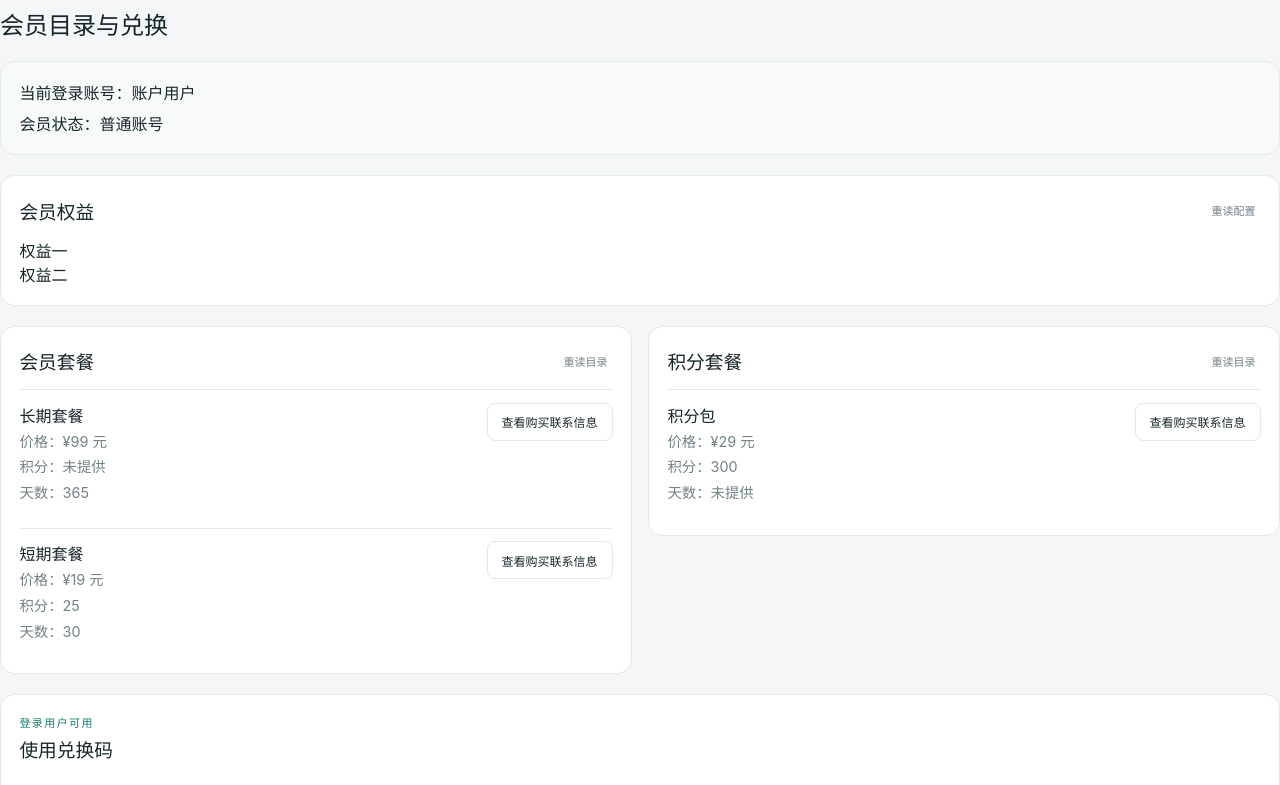
AccountMembershipPanel › shows safe contact text fallback and never interprets configured HTML
Click the button "查看购买联系信息" in the row of "长期套餐".
click(550, 422)  # box [487,403,613,441]
(page scrolled)
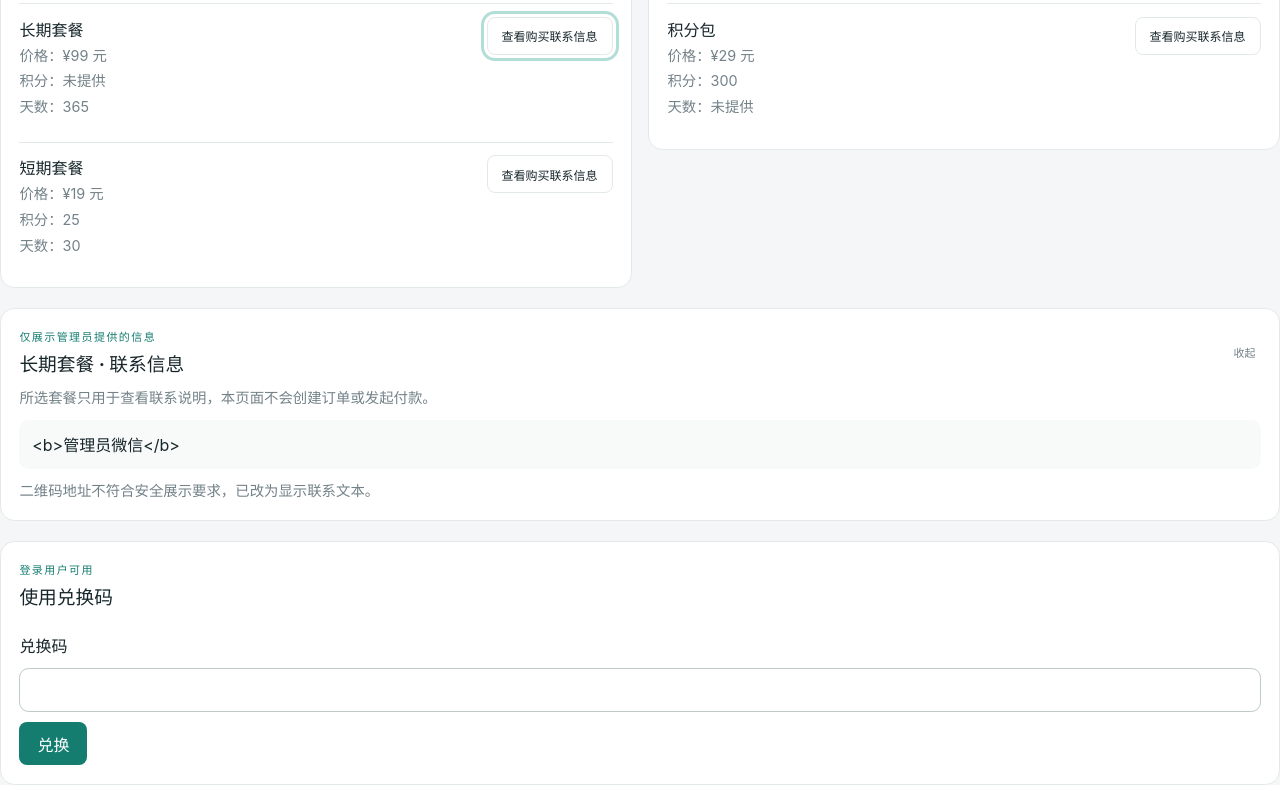
Result: the text "<b>管理员微信</b>" is shown at [19,420,1261,469]
Result: the text "二维码地址不符合安全展示要求，已改为显示联系文本。" is shown at [19,482,379,499]
